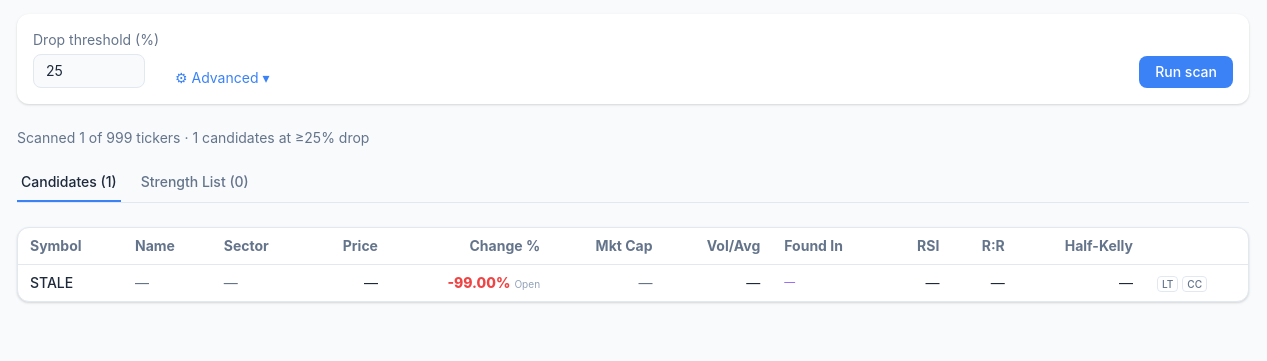
Test: ContrarianFinderPage › running a fresh scan replaces the persisted results, not merges with them
Check: the button "Candidates (1)" is shown, box [17,172,121,202]
Click the button "Run scan": x=1186, y=72 [1139,56,1233,88]
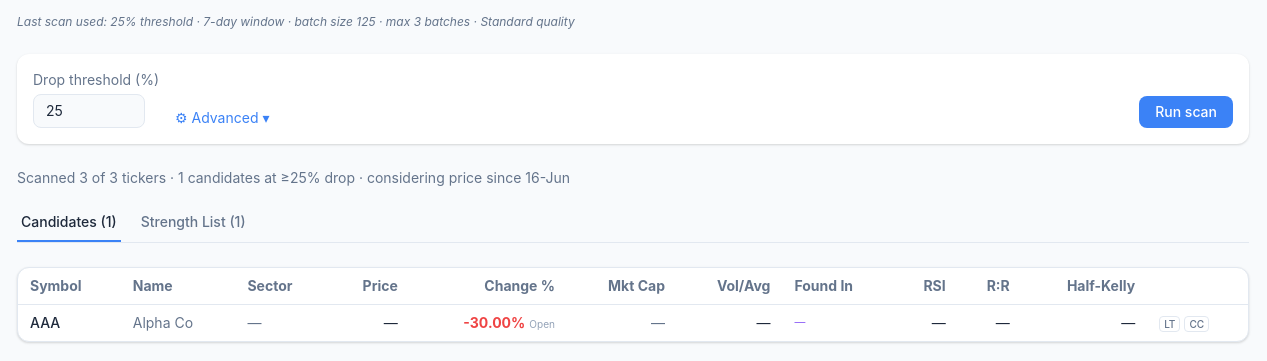
Check: the button "STALE" is gone
